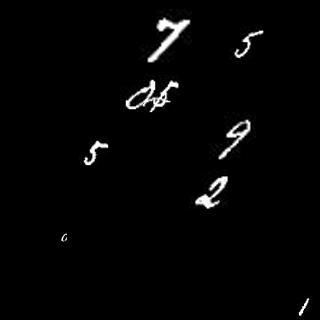five: (234, 24, 268, 63), (82, 139, 113, 168)
nine: (217, 119, 253, 162)
one: (297, 292, 311, 315)
seven: (144, 13, 194, 65)
two: (189, 174, 234, 211)
zero: (122, 79, 153, 112), (60, 228, 76, 243)
